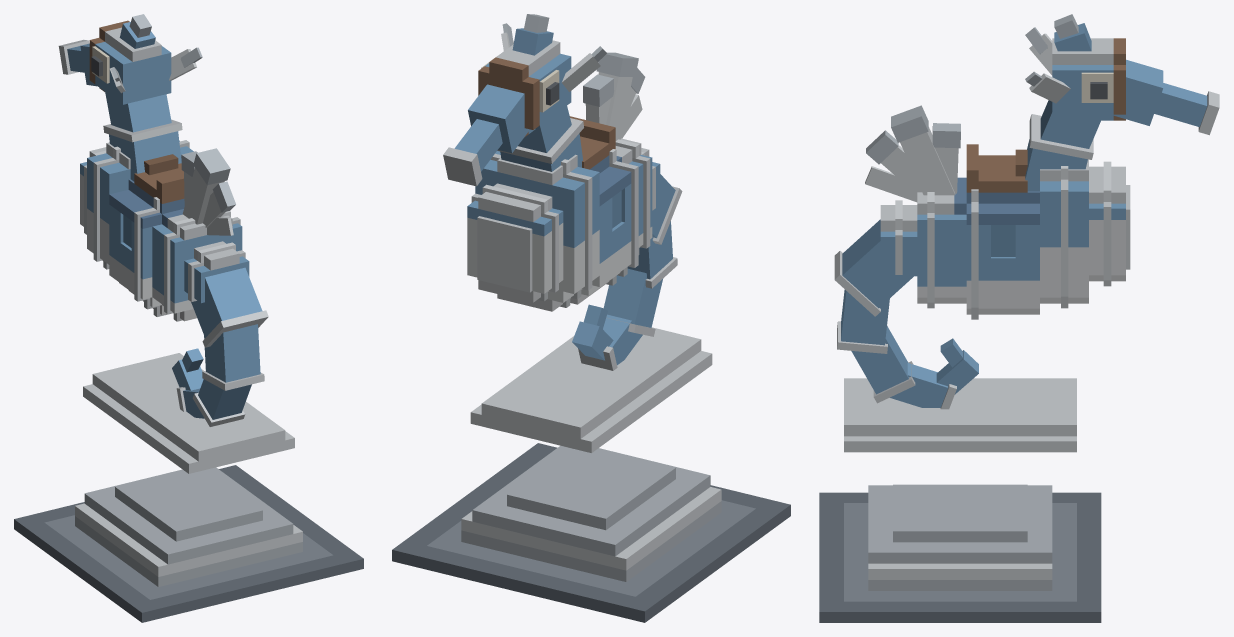
File: SeahorseTrainer5.glb
3 views of the same model, side by side, from view 1: azimuth 30°, elevation 25°; view 2: azimuth 150°, elevation 25°; view 3: azimuth 270°, elevation 25° (orthographic). The views are drawn at different scales.
Visible parts, largest first — view 1: Stand, Body, Plate, Head, Fin, T1, T2, T3, T5, T4; view 2: Stand, Body, Plate, Head, Fin, T3, T4, T2, T1, T5; view 3: Stand, Body, Plate, Head, Fin, T1, T2, T3, T4, T5.
Part boxes in pixels (bbox=[...]): Stand: bbox=[14, 465, 363, 622]; Body: bbox=[80, 92, 249, 321]; Plate: bbox=[83, 353, 294, 473]; Head: bbox=[58, 14, 202, 104]; Fin: bbox=[181, 148, 235, 235]; T1: bbox=[191, 267, 268, 347]; T2: bbox=[202, 324, 264, 390]; T3: bbox=[192, 379, 251, 426]; T5: bbox=[172, 359, 203, 390]; T4: bbox=[176, 387, 204, 418]; Stand: bbox=[392, 443, 790, 622]; Body: bbox=[467, 106, 660, 311]; Plate: bbox=[470, 327, 712, 452]; Head: bbox=[443, 14, 606, 186]; Fin: bbox=[583, 52, 645, 140]; T3: bbox=[603, 268, 662, 336]; T4: bbox=[578, 314, 642, 370]; T2: bbox=[627, 221, 677, 288]; T1: bbox=[652, 174, 682, 244]; T5: bbox=[572, 321, 613, 360]; Stand: bbox=[819, 484, 1101, 622]; Body: bbox=[880, 100, 1130, 319]; Plate: bbox=[844, 378, 1076, 452]; Head: bbox=[1025, 14, 1219, 135]; Fin: bbox=[865, 105, 960, 202]; T1: bbox=[834, 219, 917, 316]; T2: bbox=[837, 289, 889, 353]; T3: bbox=[851, 326, 915, 403]; T4: bbox=[890, 363, 956, 409]; T5: bbox=[936, 350, 978, 394].
Size of the model in its own units: 9.2 by 19.67 by 13.06.
